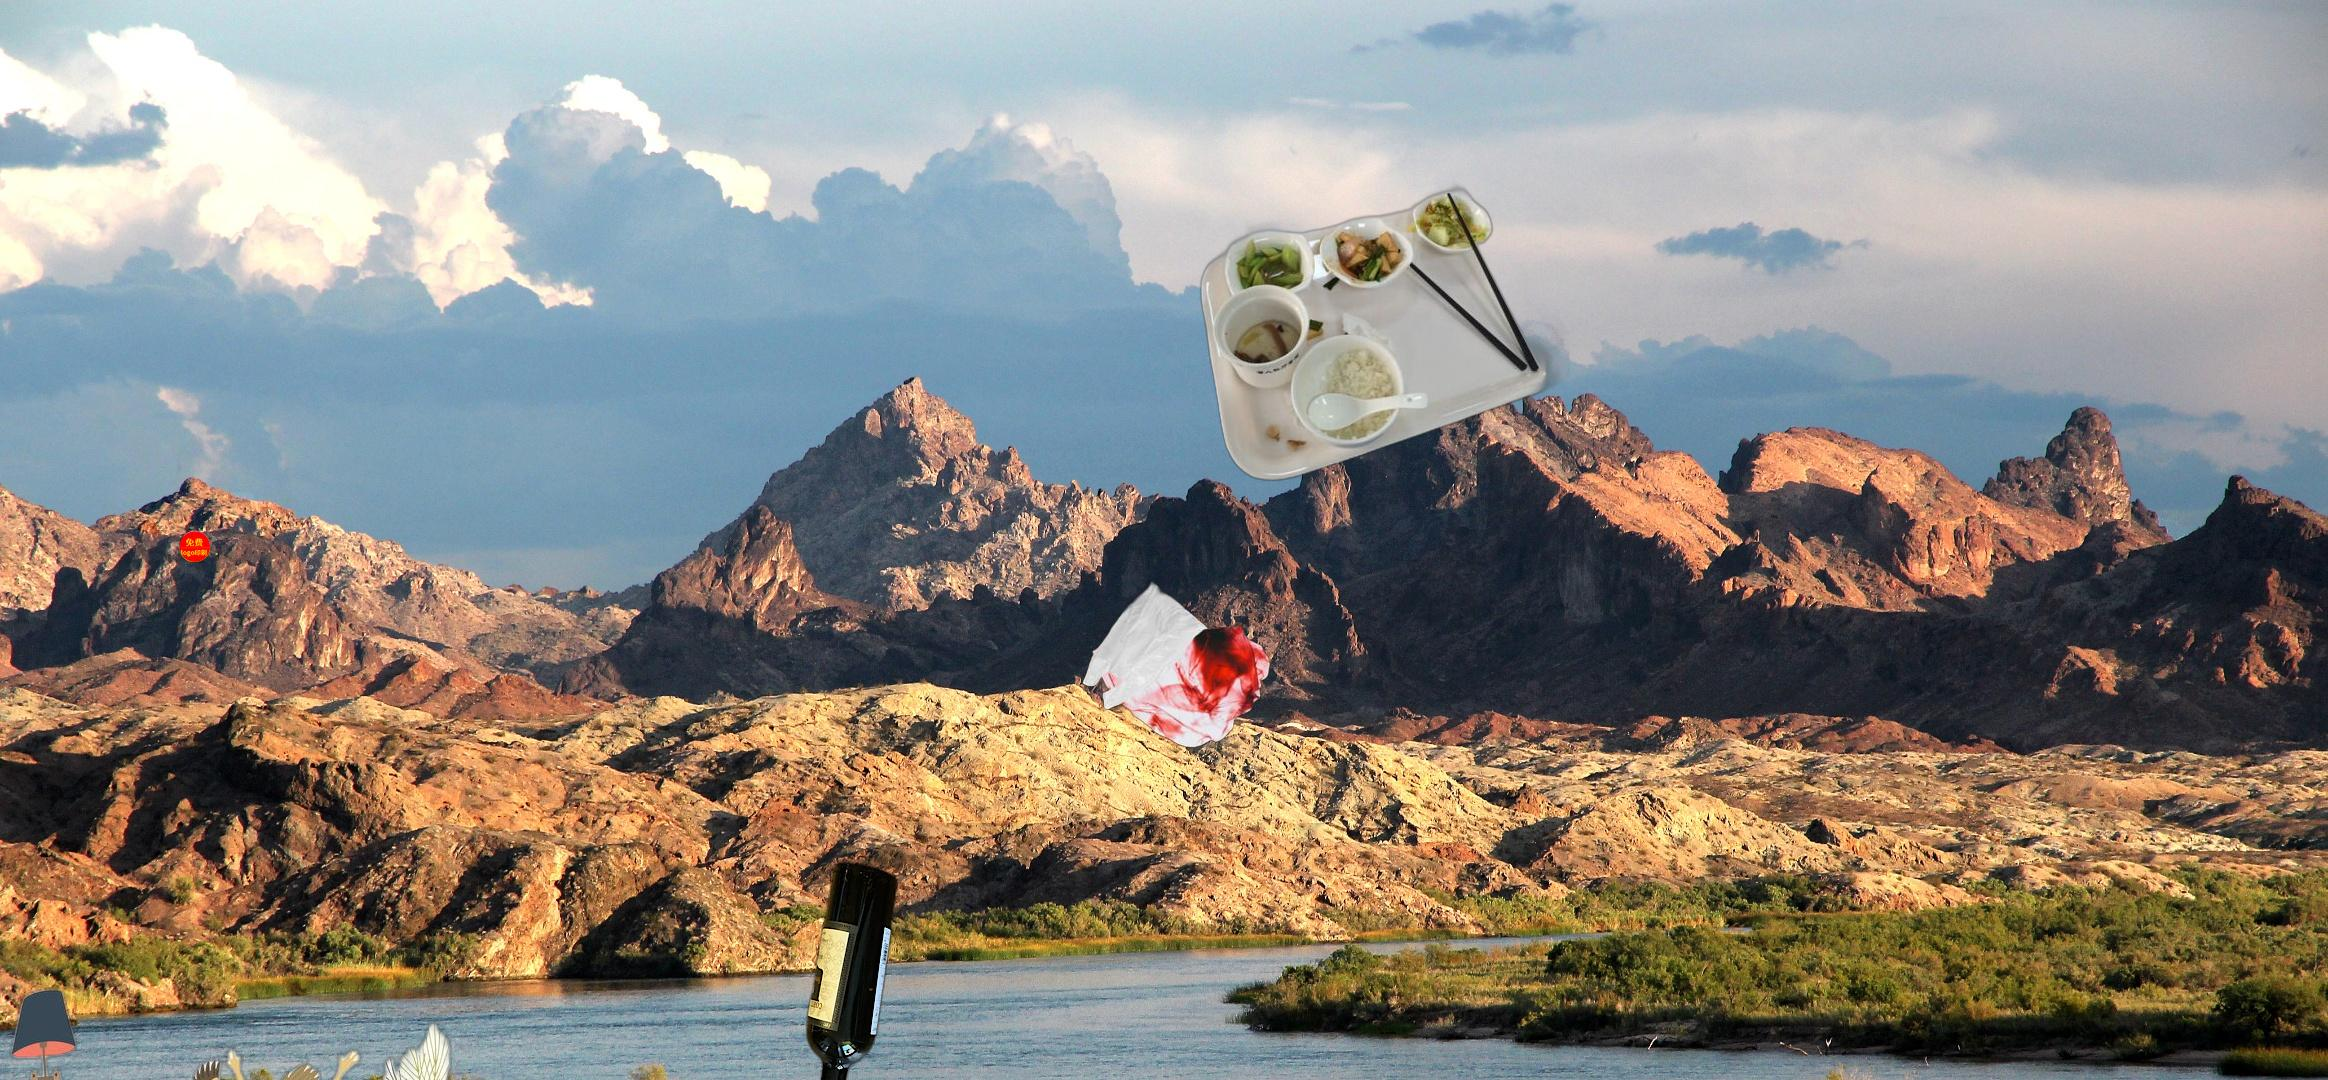biological: (1197, 15, 1569, 484)
glass: (803, 856, 901, 1080)
penholder: (177, 416, 324, 565)
plastic-bag: (1079, 578, 1272, 752)
plastic-bottles: (889, 823, 1397, 1080)
trashbox-cardboard: (0, 982, 491, 1080)
